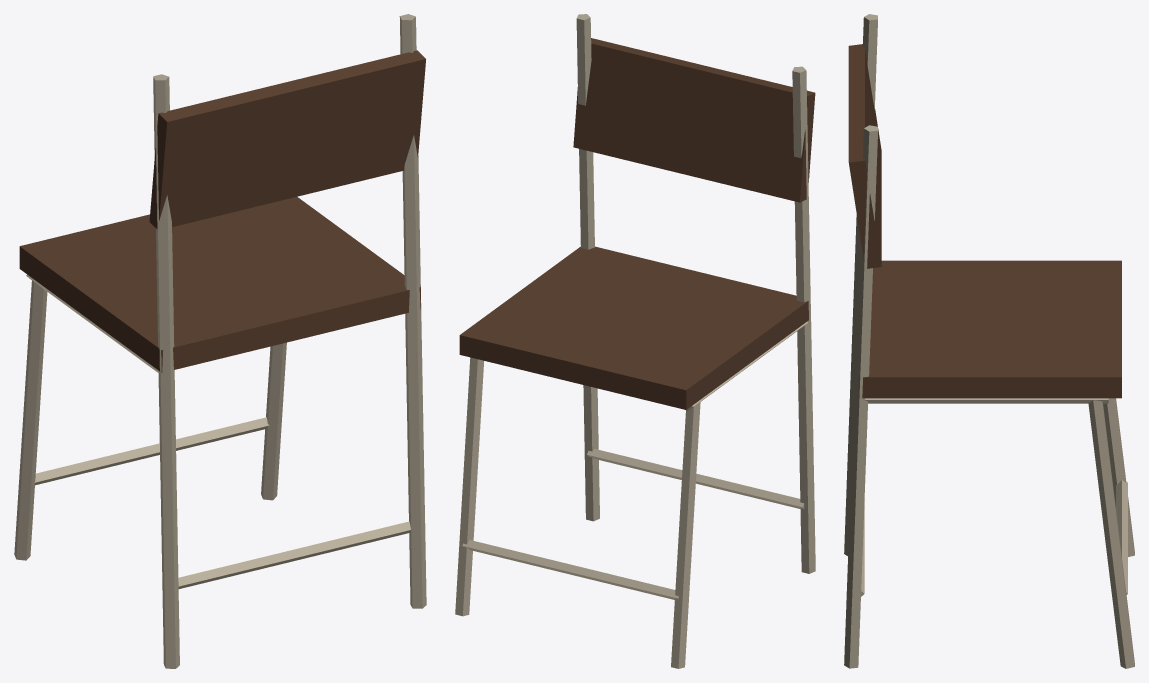
File: FoldingChair.obj
3 views of the same model, side by side, from view 1: azimuth 30°, elevation 25°; view 2: azimuth 150°, elevation 25°; view 3: azimuth 270°, elevation 25° (orthographic). The views are drawn at different scales.
Parts seen in each view (by area): view 1: FoldingChair; view 2: FoldingChair; view 3: FoldingChair.
Part boxes in pixels (x1,y1,x2,y2): FoldingChair: [14, 14, 426, 668]; FoldingChair: [455, 14, 815, 668]; FoldingChair: [844, 14, 1134, 668].
Bounding box in the file's own units: 0.4228 × 0.9017 × 0.4416.
Materials: 1 (1 with a texture image).
